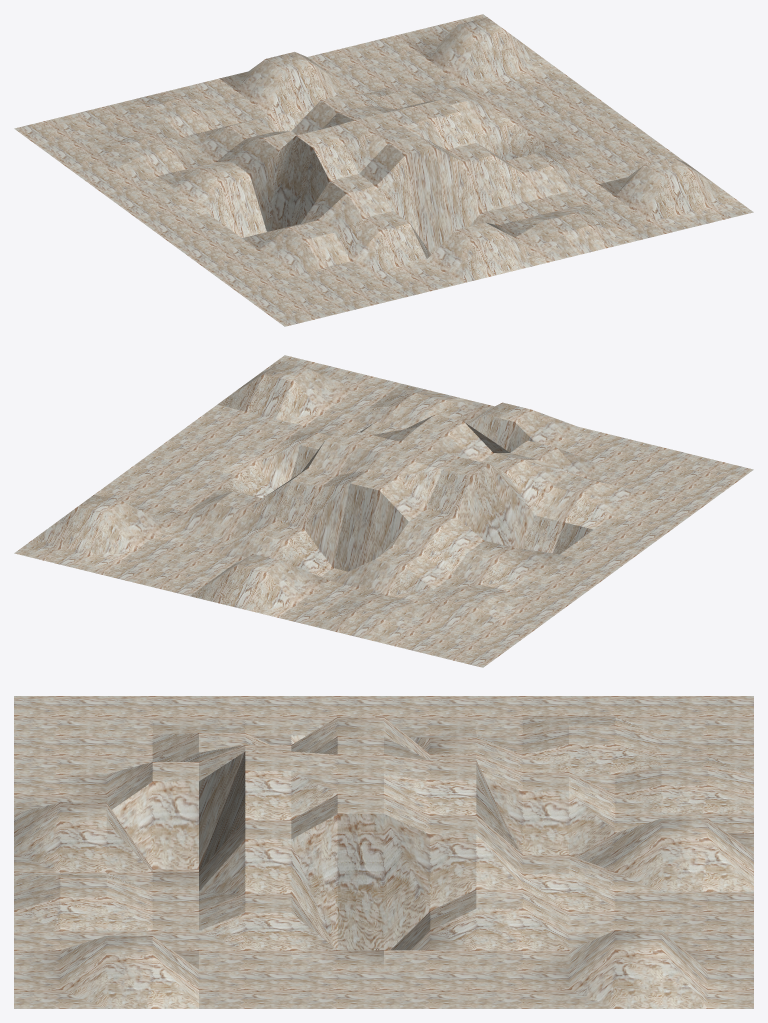
Rendered from courser12a.obj.
3 renders of one model, top to bottom at view 1: azimuth 30°, elevation 25°; view 2: azimuth 150°, elevation 25°; view 3: azimuth 270°, elevation 25°, orthographic. The views are drawn at different scales.
Parts seen in each view (by area): view 1: Plane; view 2: Plane; view 3: Plane.
Boxes of the visible parts, x1,y1,x2,y2 form: Plane: [14, 14, 753, 326]; Plane: [14, 355, 753, 667]; Plane: [14, 696, 753, 1008].
Bounding box in the file's own units: 40 × 7.57 × 40.
1 material, 1 textured.
